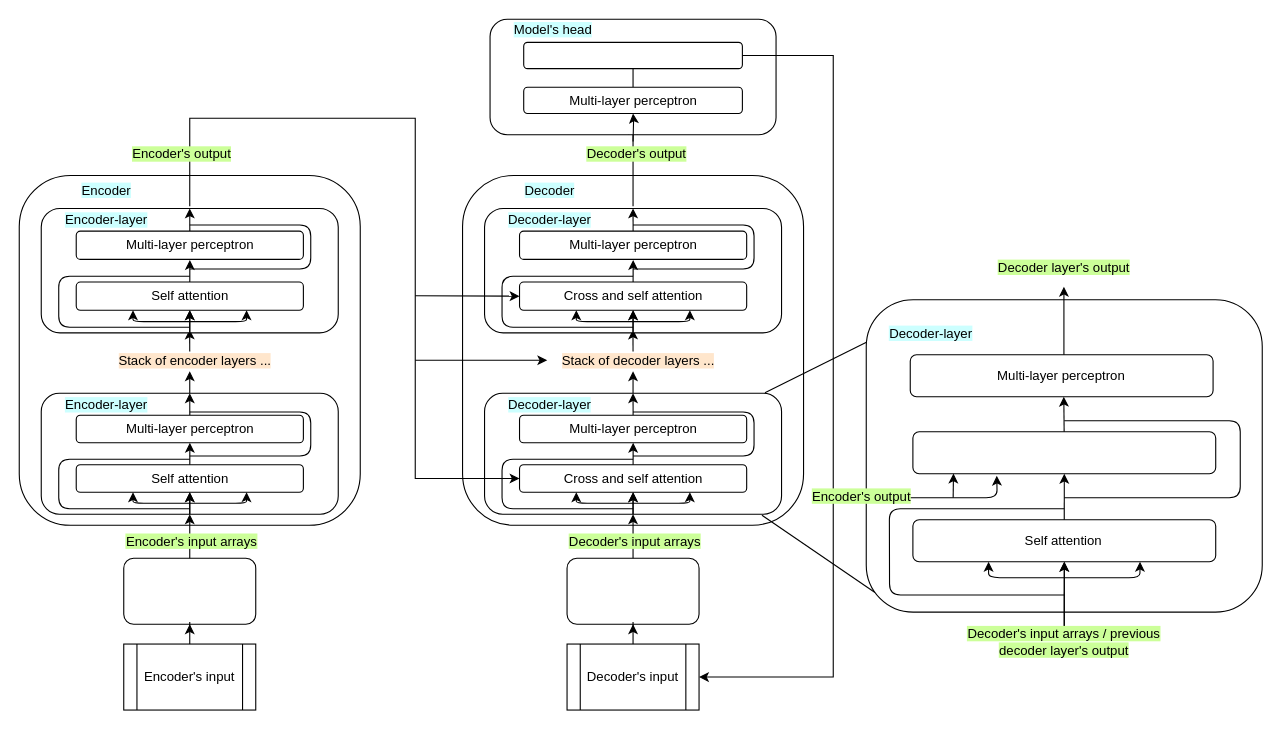
This 1282x729 diagram has some shape labels left out. The box of each missing label's shape, as (x1, y1, x2, y2) in pixels:
Cross attention: (912, 431, 1216, 474)
Encoder's input transformation: (123, 557, 256, 624)
Input transformation: (566, 557, 699, 624)
Prediction: (523, 41, 742, 69)
